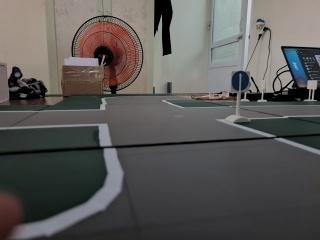straight: (231, 70, 252, 92)
